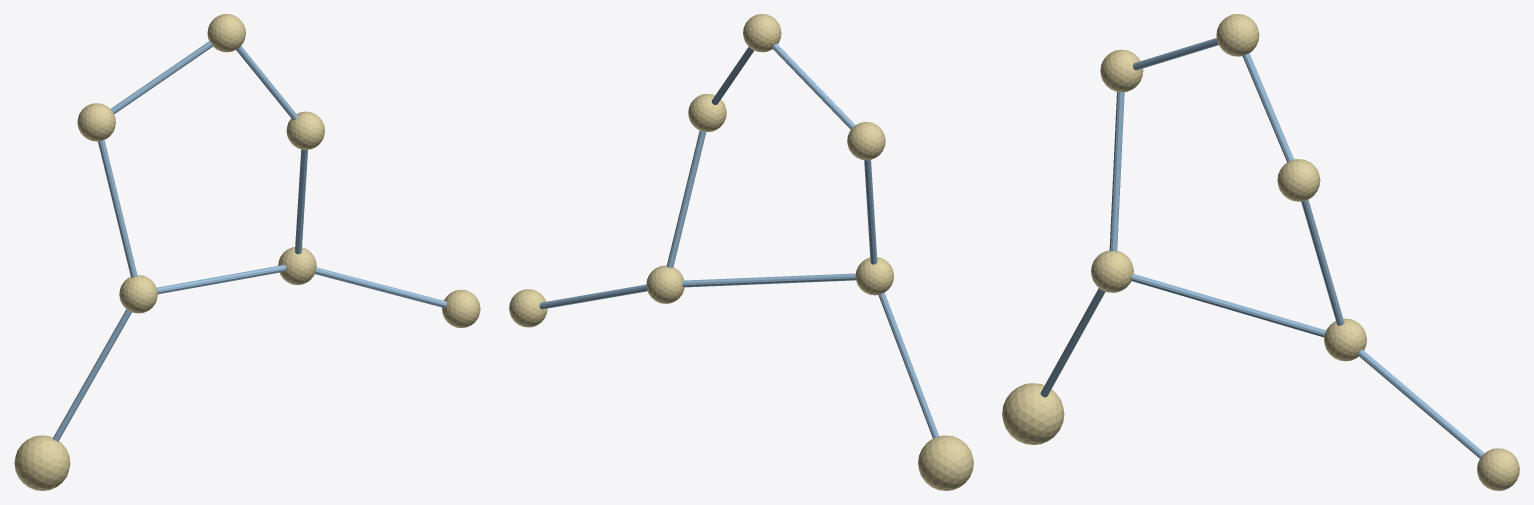
File: leao.glb
3 renders of one model, left to right at view 1: azimuth 30°, elevation 25°; view 2: azimuth 150°, elevation 25°; view 3: azimuth 330°, elevation 25°, orthographic. The views are drawn at different scales.
Visible parts, largest first — view 1: world; view 2: world; view 3: world.
Part boxes in pixels (left/top/right/bottom): world: left=14, top=14, right=480, bottom=490; world: left=509, top=14, right=973, bottom=490; world: left=1002, top=14, right=1519, bottom=490.
Bounding box in the file's own units: 2.75 × 2.44 × 0.4614.
